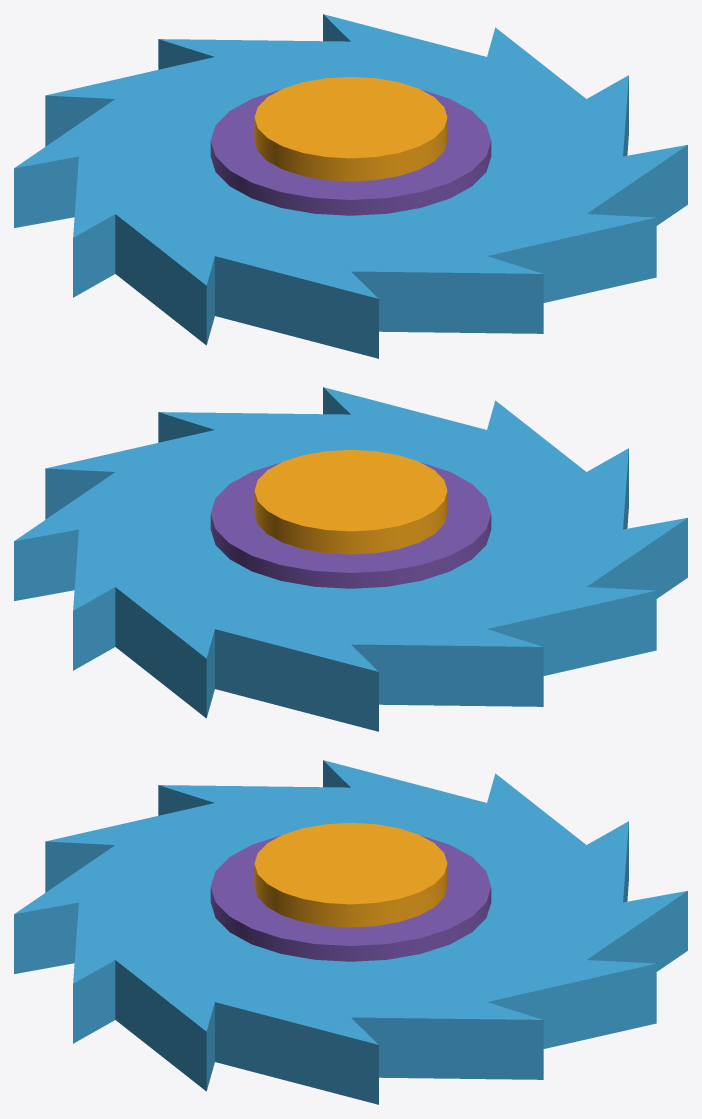
File: Round_Blade_02.fbx
The picture shows the model from 3 angles, top to bottom: view 1: azimuth 30°, elevation 25°; view 2: azimuth 150°, elevation 25°; view 3: azimuth 270°, elevation 25°; orthographic projection.
Parts seen in each view (by area): view 1: Obstacle_Round_Blade_02; view 2: Obstacle_Round_Blade_02; view 3: Obstacle_Round_Blade_02.
Boxes of the visible parts, box(x1,y1,x2,y2) form: Obstacle_Round_Blade_02: box(14, 14, 687, 358); Obstacle_Round_Blade_02: box(14, 387, 687, 731); Obstacle_Round_Blade_02: box(14, 760, 687, 1104).
Bounding box in the file's own units: 51.95 × 11.71 × 51.95.
Materials: 1 (1 with a texture image).
